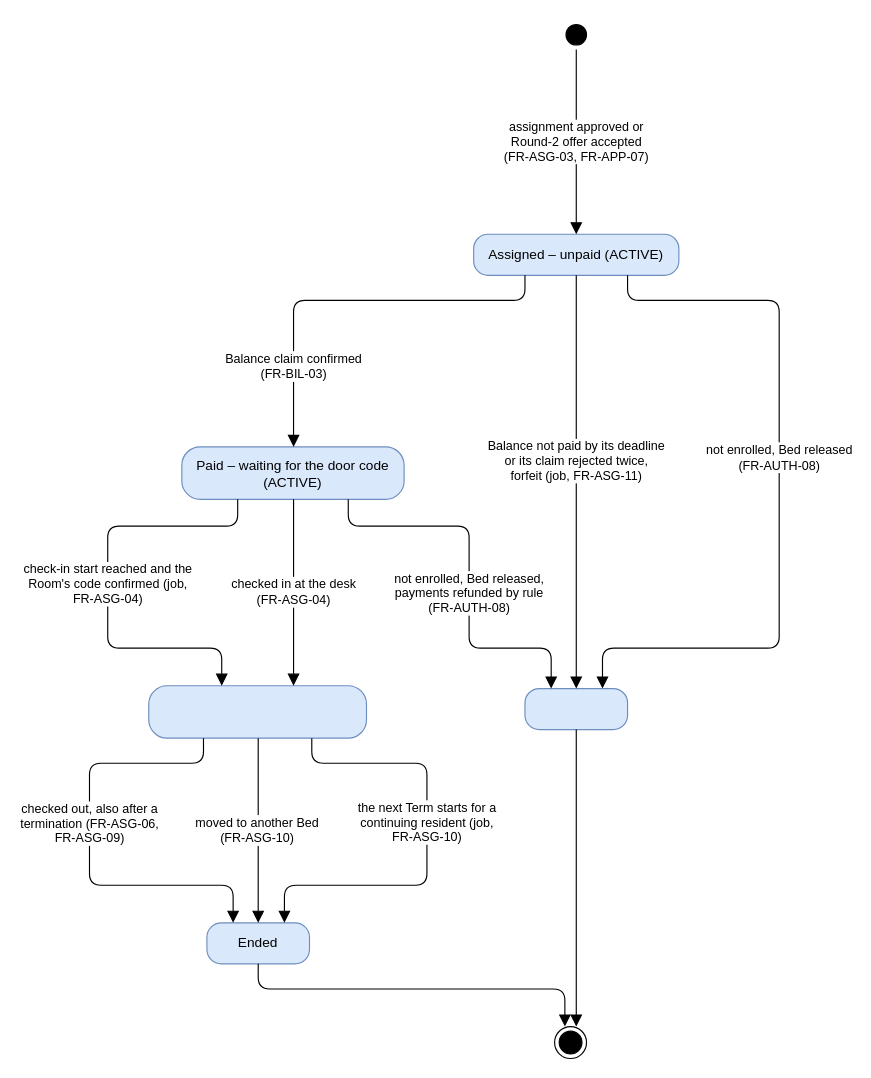
The diagram is 871 pixels wide and 1078 high, and some of its shapes have lost their labels. The box of each missing label's shape, as (x1, y1, x2, y2) in pixels:
Cancelled: (524, 687, 628, 730)
Resident (ACTIVE, resident_at set): (148, 685, 367, 738)
